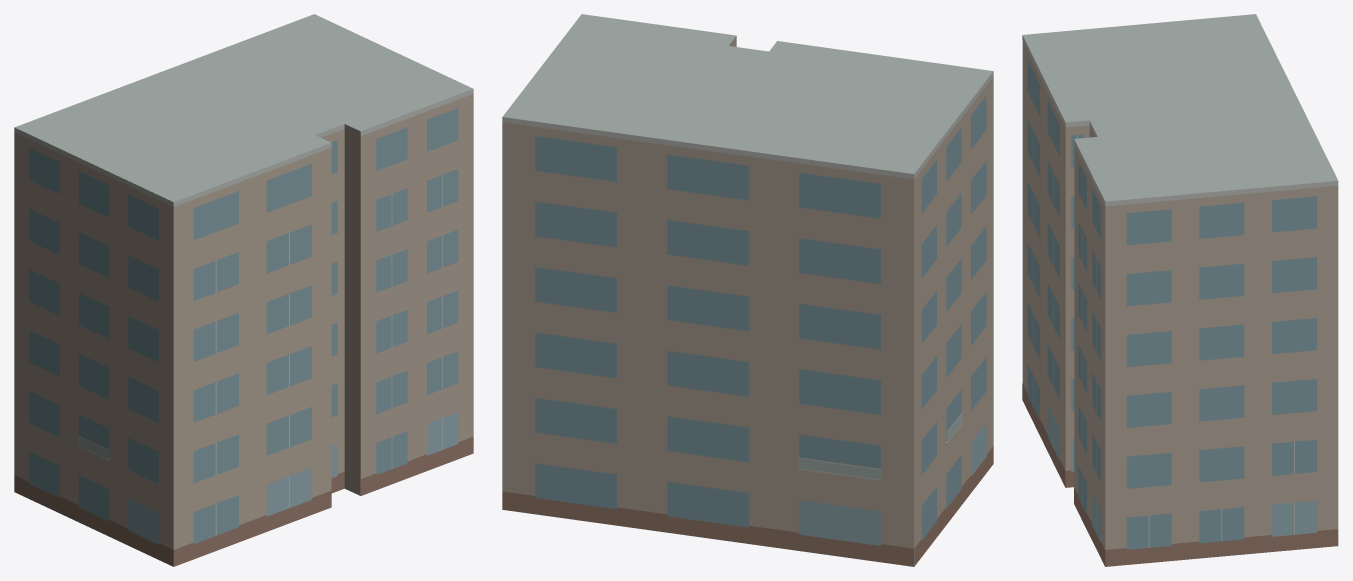
The model's file is survey-upis-32696553.glb.
The picture shows the model from 3 angles, left to right: view 1: azimuth 30°, elevation 25°; view 2: azimuth 150°, elevation 25°; view 3: azimuth 270°, elevation 25°; orthographic projection. The views are drawn at different scales.
Parts seen in each view (by area): view 1: survey-upis-32696553.tmp; view 2: survey-upis-32696553.tmp; view 3: survey-upis-32696553.tmp.
Part boxes in pixels (left/top/right/bottom): survey-upis-32696553.tmp: left=14, top=14, right=473, bottom=566; survey-upis-32696553.tmp: left=502, top=14, right=993, bottom=566; survey-upis-32696553.tmp: left=1022, top=14, right=1338, bottom=566.
Bounding box in the file's own units: 20.17 × 18.3 × 14.36.
